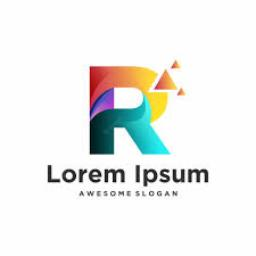r: (84, 58, 180, 166)
